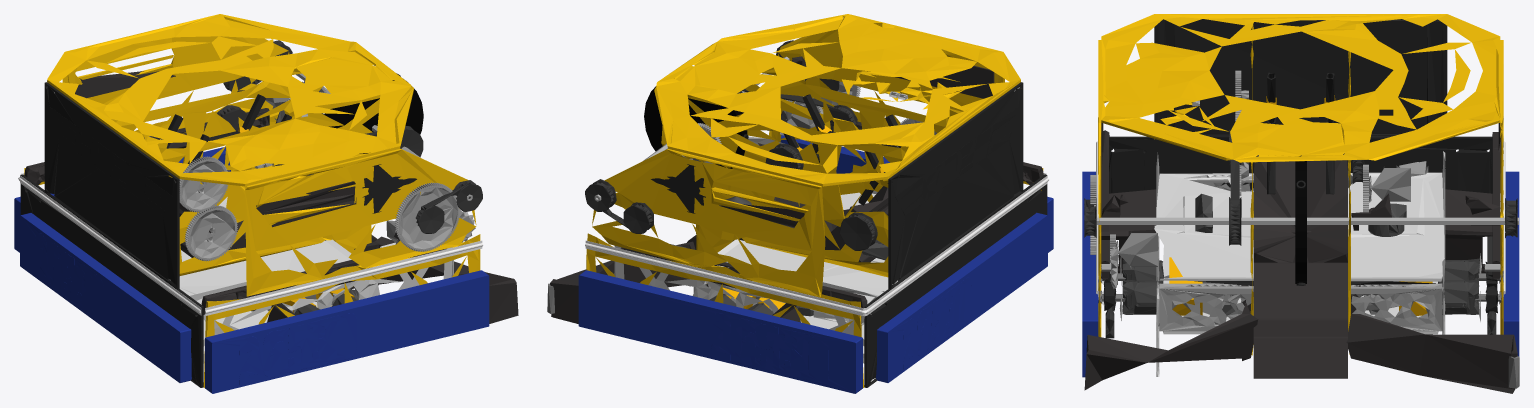
File: chassis.glb
3 renders of one model, left to right at view 1: azimuth 30°, elevation 25°; view 2: azimuth 150°, elevation 25°; view 3: azimuth 270°, elevation 25°, orthographic. The views are drawn at different scales.
Visible parts, largest first — view 1: chassis_17, chassis_0, chassis_2, chassis_12, chassis_23, chassis_15, chassis_19, chassis_21, chassis_1, chassis_8, chassis_10; view 2: chassis_17, chassis_0, chassis_2, chassis_12, chassis_15, chassis_21, chassis_19, chassis_1, chassis_8, chassis_3, chassis_23, chassis_22; view 3: chassis_12, chassis_17, chassis_2, chassis_19, chassis_10, chassis_0, chassis_4, chassis_3, chassis_24, chassis_21, chassis_8, chassis_1 (+5 smaller).
Boxes of the visible parts, x1=… form: chassis_17: x1=24, y1=14, x2=480, y2=387; chassis_0: x1=14, y1=147, x2=489, y2=393; chassis_2: x1=20, y1=73, x2=416, y2=387; chassis_12: x1=24, y1=71, x2=518, y2=323; chassis_23: x1=179, y1=81, x2=460, y2=261; chassis_15: x1=18, y1=173, x2=483, y2=315; chassis_19: x1=170, y1=197, x2=351, y2=353; chassis_21: x1=217, y1=40, x2=482, y2=233; chassis_1: x1=190, y1=242, x2=453, y2=363; chassis_8: x1=324, y1=80, x2=423, y2=153; chassis_10: x1=196, y1=181, x2=475, y2=299; chassis_17: x1=586, y1=14, x2=1043, y2=387; chassis_0: x1=578, y1=135, x2=1053, y2=393; chassis_2: x1=651, y1=82, x2=1047, y2=387; chassis_12: x1=550, y1=56, x2=1043, y2=323; chassis_15: x1=585, y1=173, x2=1048, y2=316; chassis_21: x1=585, y1=40, x2=877, y2=250; chassis_19: x1=717, y1=192, x2=897, y2=353; chassis_1: x1=614, y1=136, x2=878, y2=363; chassis_8: x1=644, y1=86, x2=747, y2=168; chassis_3: x1=547, y1=114, x2=815, y2=313; chassis_23: x1=698, y1=81, x2=936, y2=147; chassis_22: x1=719, y1=110, x2=888, y2=260; chassis_12: x1=1084, y1=122, x2=1517, y2=393; chassis_17: x1=1098, y1=14, x2=1503, y2=355; chassis_2: x1=1098, y1=19, x2=1497, y2=313; chassis_19: x1=1154, y1=172, x2=1444, y2=334; chassis_10: x1=1110, y1=90, x2=1443, y2=331; chassis_0: x1=1082, y1=171, x2=1519, y2=377; chassis_4: x1=1122, y1=258, x2=1479, y2=314; chassis_3: x1=1098, y1=166, x2=1519, y2=388; chassis_24: x1=1096, y1=217, x2=1518, y2=271; chassis_21: x1=1084, y1=130, x2=1517, y2=245; chassis_8: x1=1295, y1=161, x2=1306, y2=283; chassis_1: x1=1103, y1=151, x2=1497, y2=376.
Bounding box in the file's own units: 16.54 × 9.73 × 17.52.
